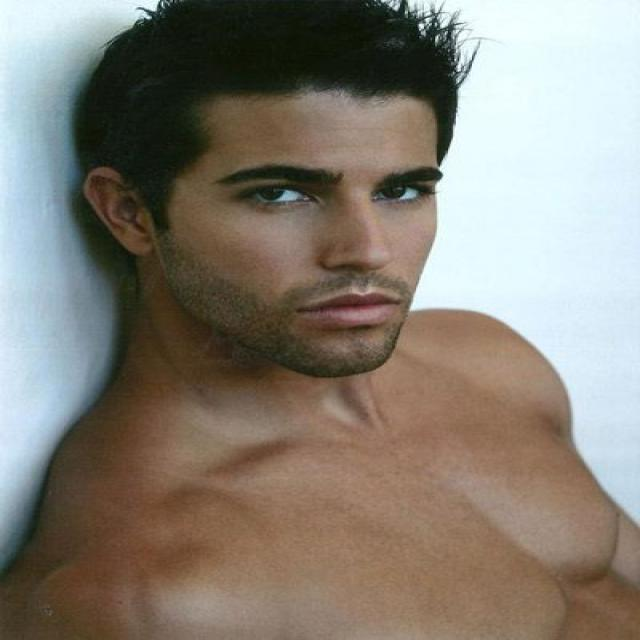earlobe: (128, 232, 156, 258)
eye: (247, 184, 314, 205), (374, 183, 424, 202)
nose: (324, 260, 404, 294)
wholeear: (82, 166, 157, 257)
